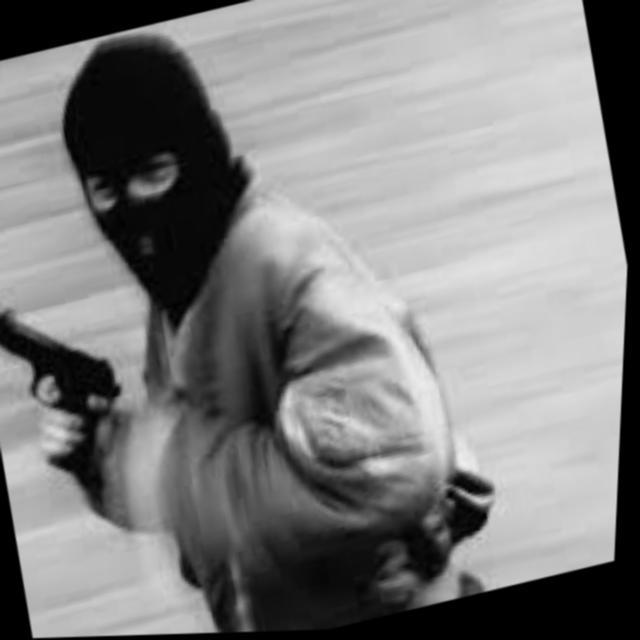weapon: (0, 280, 150, 529)
